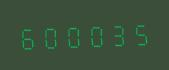five: (128, 18, 149, 47)
six: (17, 22, 38, 51)
three: (106, 19, 127, 48)
zero: (62, 20, 83, 50), (39, 21, 60, 50), (84, 20, 105, 49)
